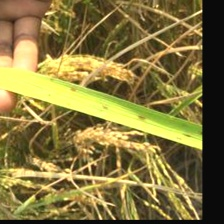Bacterial_Leaf_Blight: (175, 132, 193, 141), (95, 101, 111, 110), (137, 113, 147, 120), (68, 87, 79, 92)
